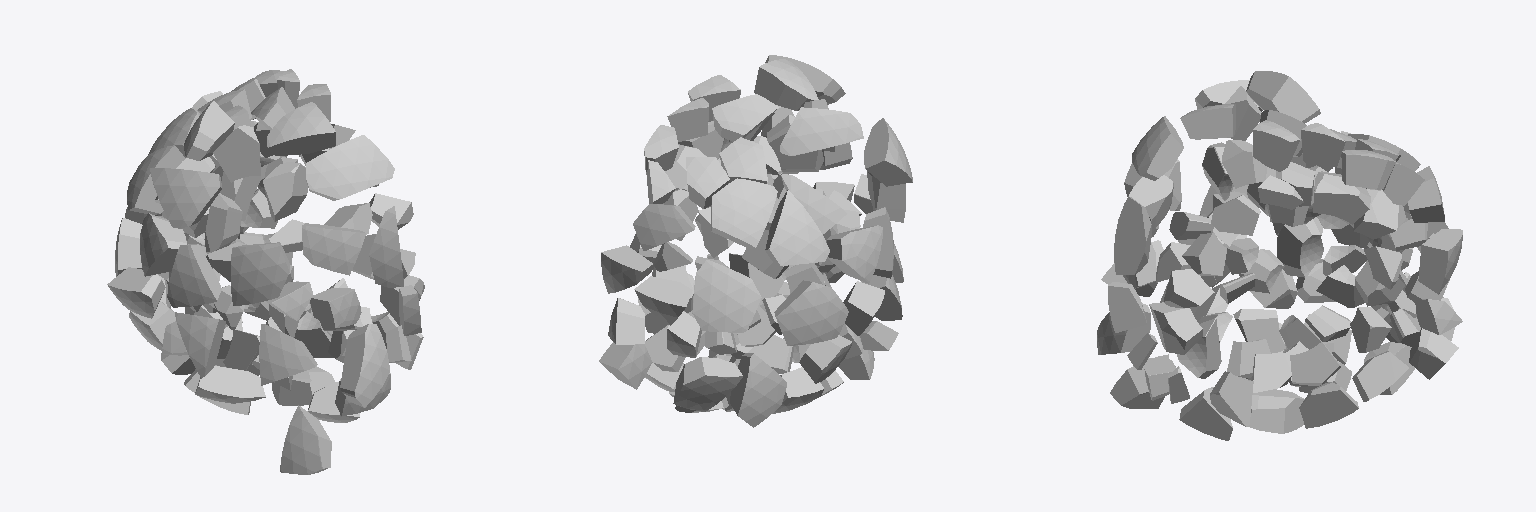
File: shatter_6.obj
The picture shows the model from 3 angles: view 1: azimuth 30°, elevation 25°; view 2: azimuth 150°, elevation 25°; view 3: azimuth 270°, elevation 25°; orthographic projection.
Bounding box in the file's own units: 22.92 × 28.32 × 28.74.